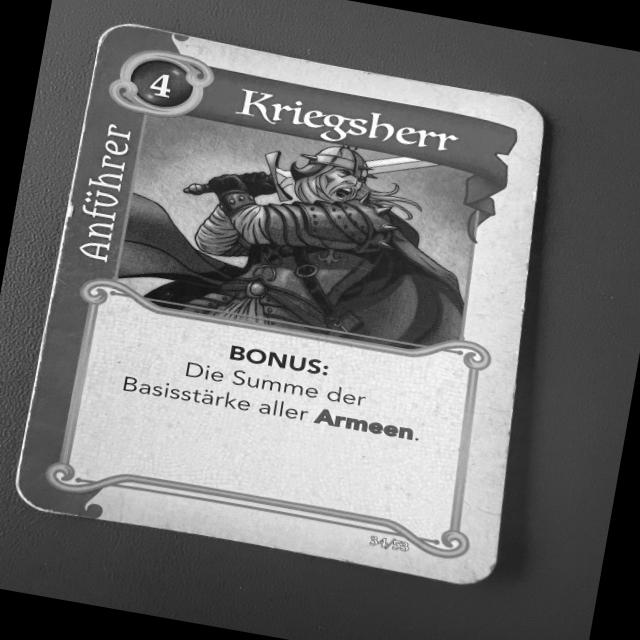Warlord: (2, 13, 558, 598)
